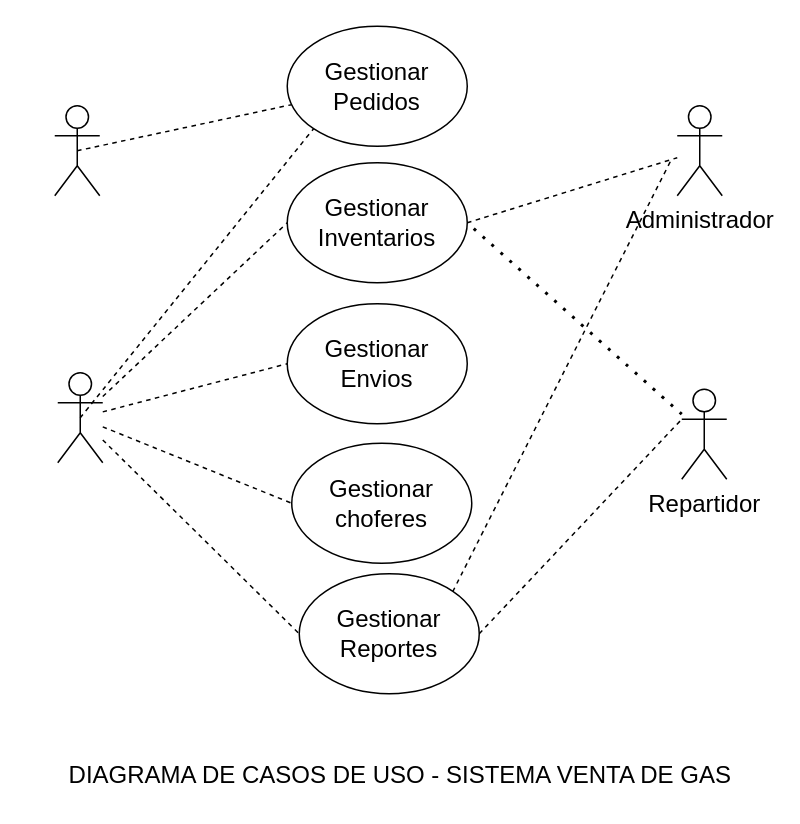
This 800x824 diagram has some shape labels left out. The shapes that lost their labels are listed below. From the top down, each one's centre as x and y in pixels, then its label:
At point 76,150: "Cliente".
At point 79,417: "Secretaria Vendedor".
